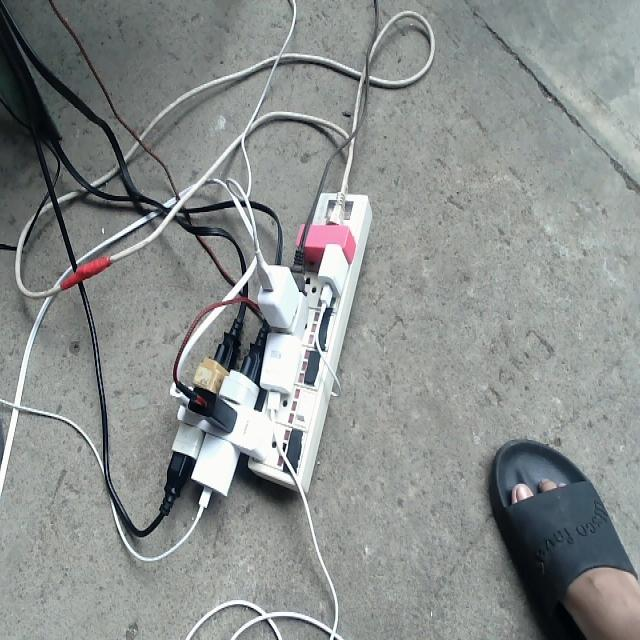-: (163, 194, 372, 506)
